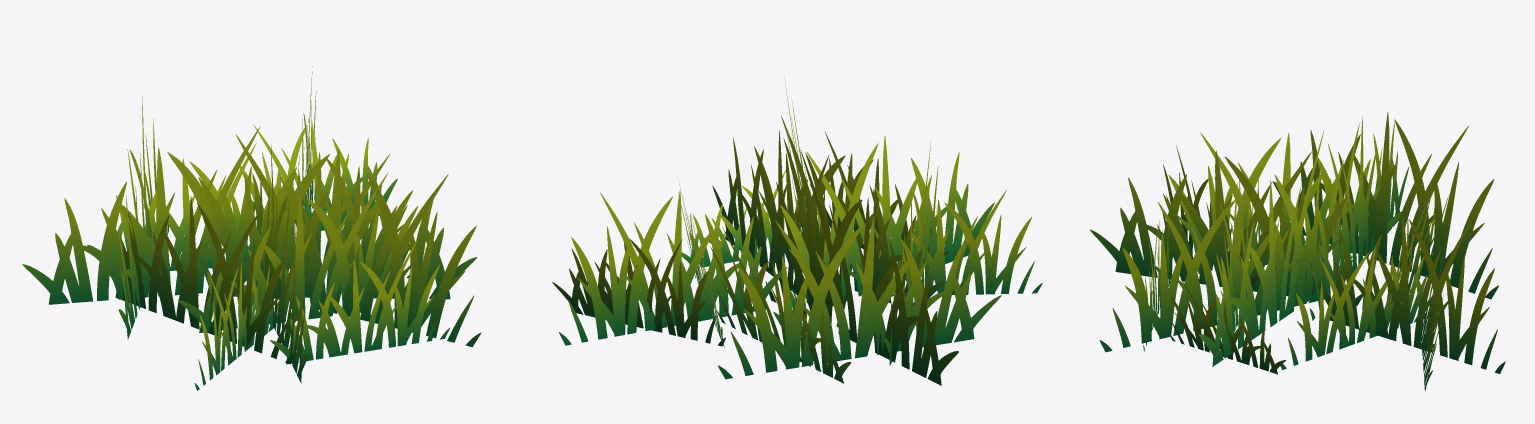
File: mid_grass_09.gltf
3 views of the same model, side by side, from view 1: azimuth 30°, elevation 25°; view 2: azimuth 150°, elevation 25°; view 3: azimuth 270°, elevation 25° (orthographic). The views are drawn at different scales.
Parts seen in each view (by area): view 1: default; view 2: default; view 3: default.
Part boxes in pixels (x1,y1,x2,y2): default: (22, 66, 481, 390); default: (552, 75, 1042, 385); default: (1090, 112, 1505, 391).
Bounding box in the file's own units: 1.16 × 0.5771 × 1.13.
1 material, 1 textured.
